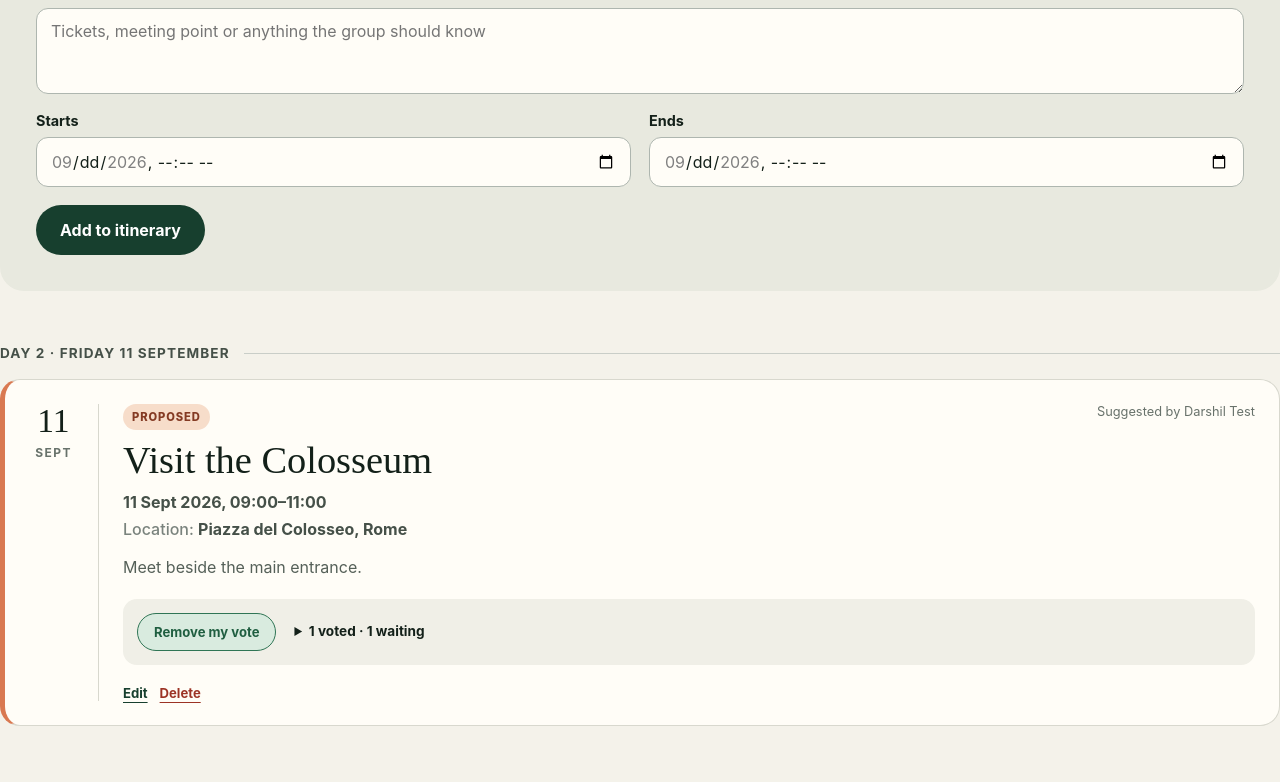
itinerary activity flow › shows who voted, who is waiting, and lets the user change their vote
(page scrolled)
Click the heading "1 voted · 1 waiting" at (367, 631), box [309,623,425,639]
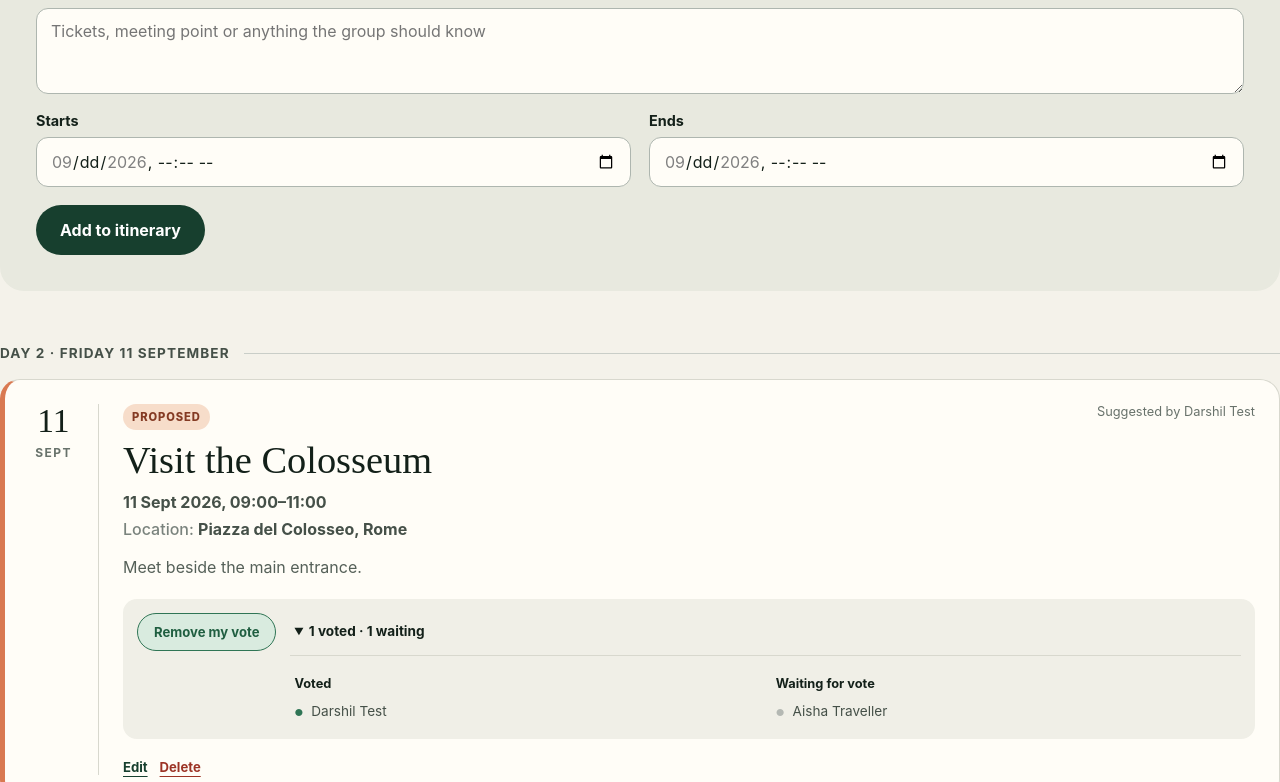
Result: the list item "Darshil Test" is shown at [311,703,387,719]
Result: the list item "Aisha Traveller" is shown at [792,703,887,719]
Click the button "Remove my vote" at (207, 632), box [137,613,276,651]
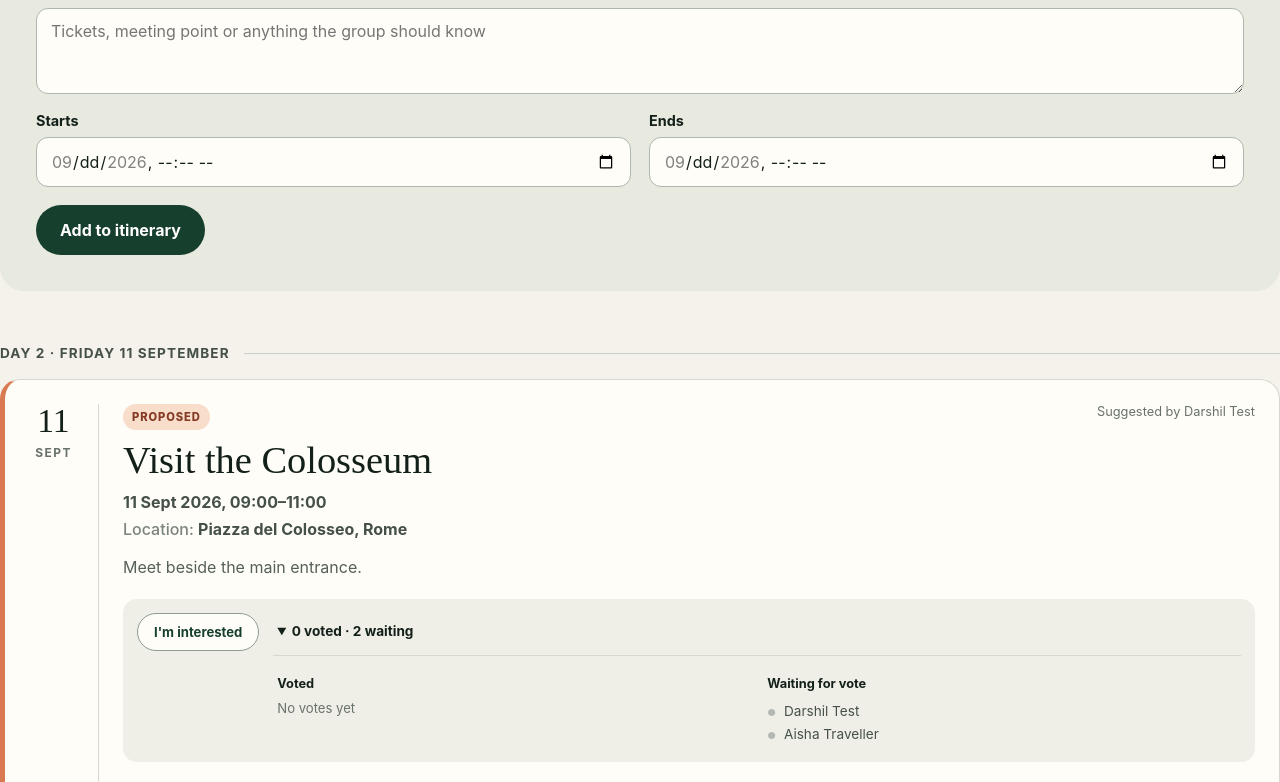
Result: the button "I'm interested" is shown at [137,613,259,651]
